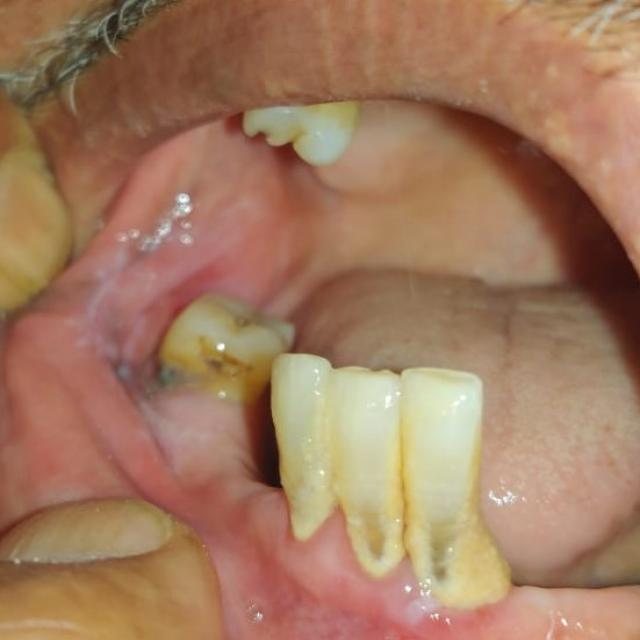Cancer: (105, 132, 336, 552)
